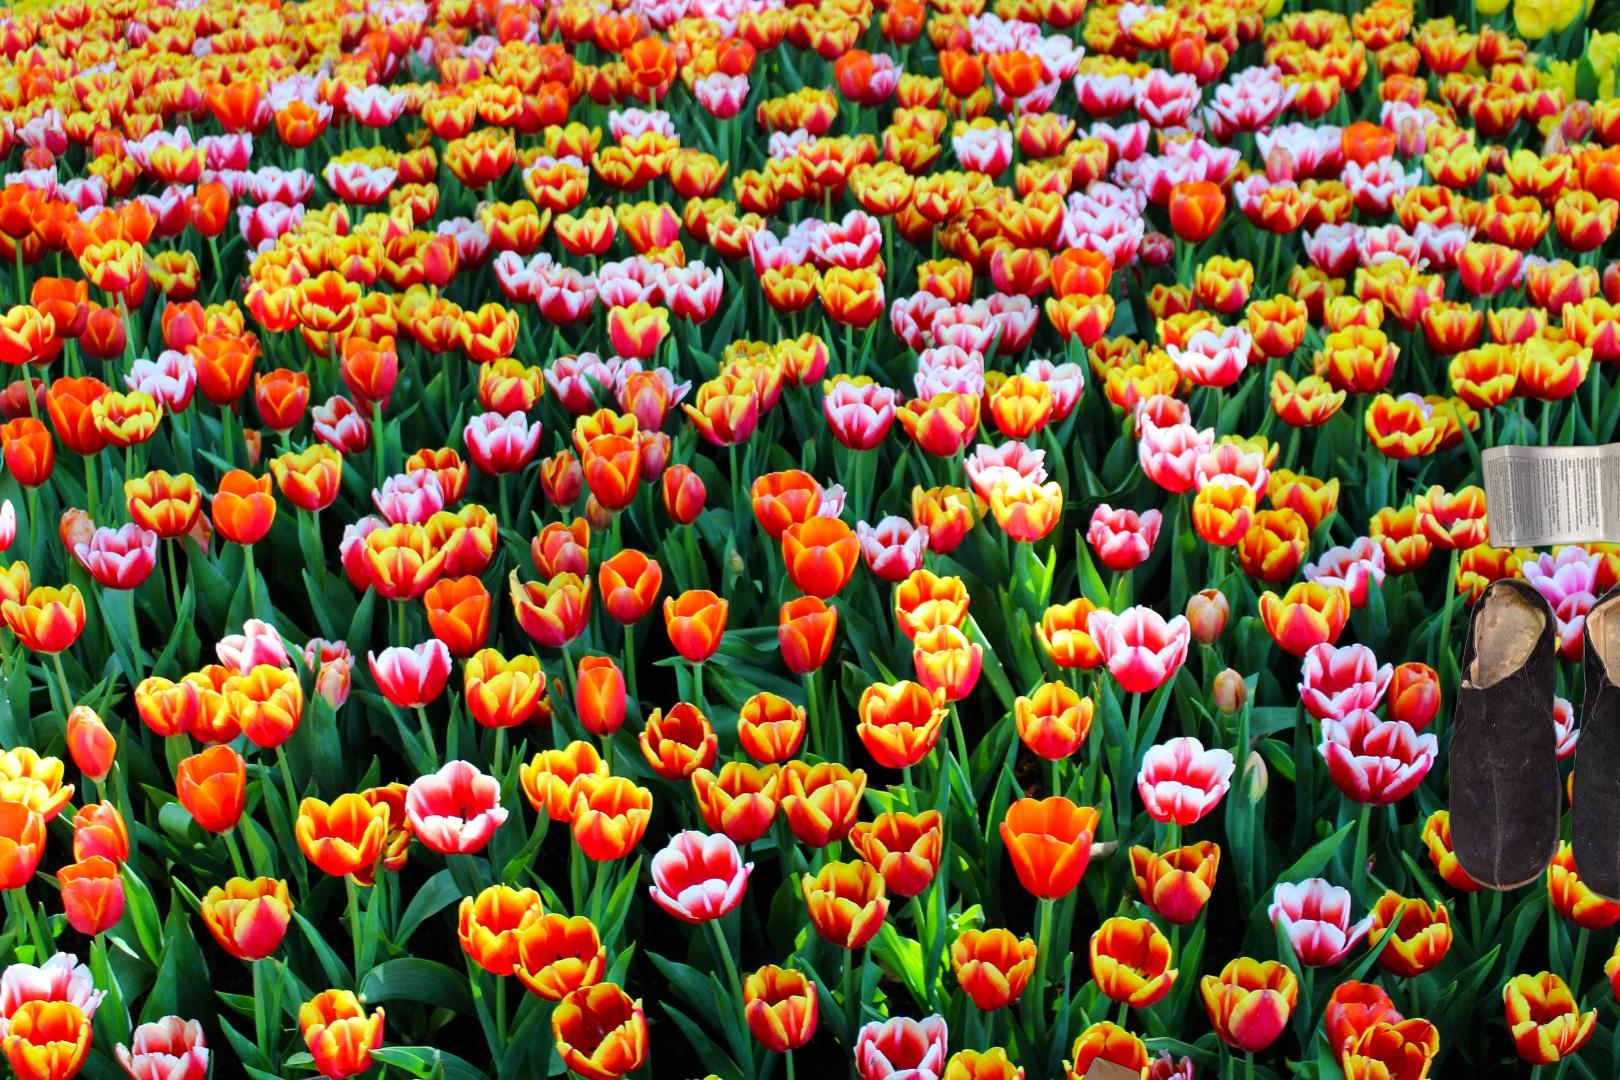clothes: (237, 1072, 506, 1080)
paper: (1477, 432, 1620, 567)
paper-bag: (1064, 1053, 1156, 1080)
shoes: (1445, 573, 1620, 910)
